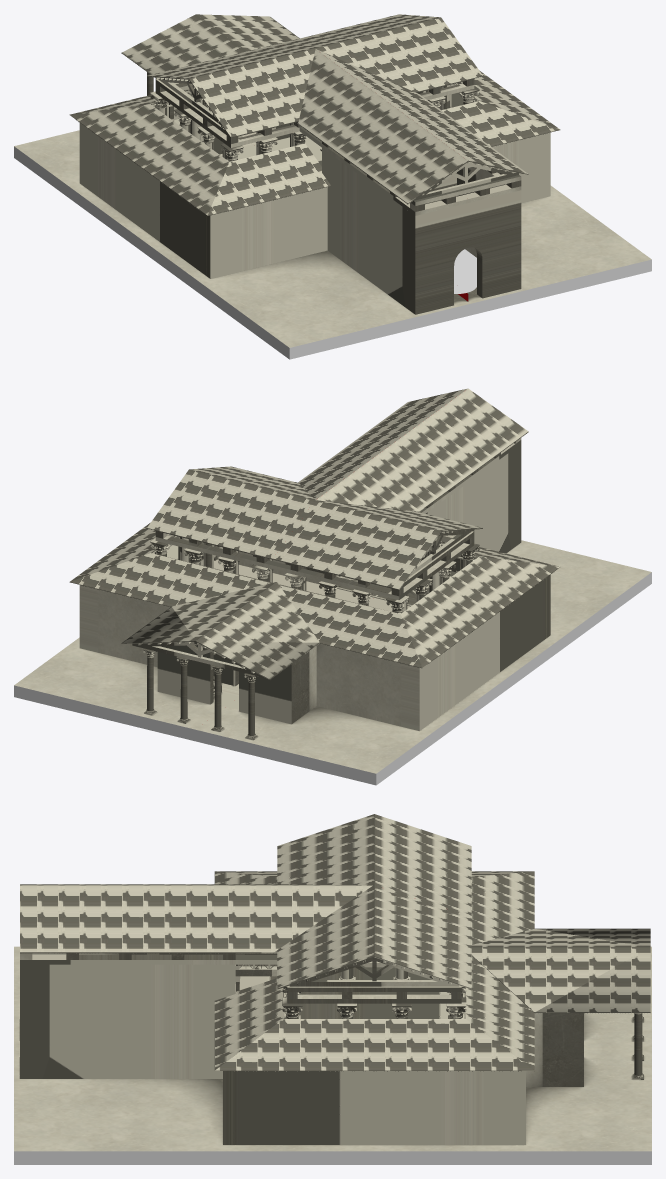
File: BASILICA 2026.fbx
3 views of the same model, one above another, from view 1: azimuth 30°, elevation 25°; view 2: azimuth 150°, elevation 25°; view 3: azimuth 270°, elevation 25° (orthographic). The views are drawn at different scales.
Visible parts, largest first — view 1: basilica; view 2: basilica; view 3: basilica.
Part boxes in pixels (x1,y1,x2,y2): basilica: (14,14,651,359); basilica: (14,388,651,785); basilica: (14,814,651,1164).
Size of the model in its own units: 5692 by 2302 by 7499.
Materials: 35 (30 with a texture image).
